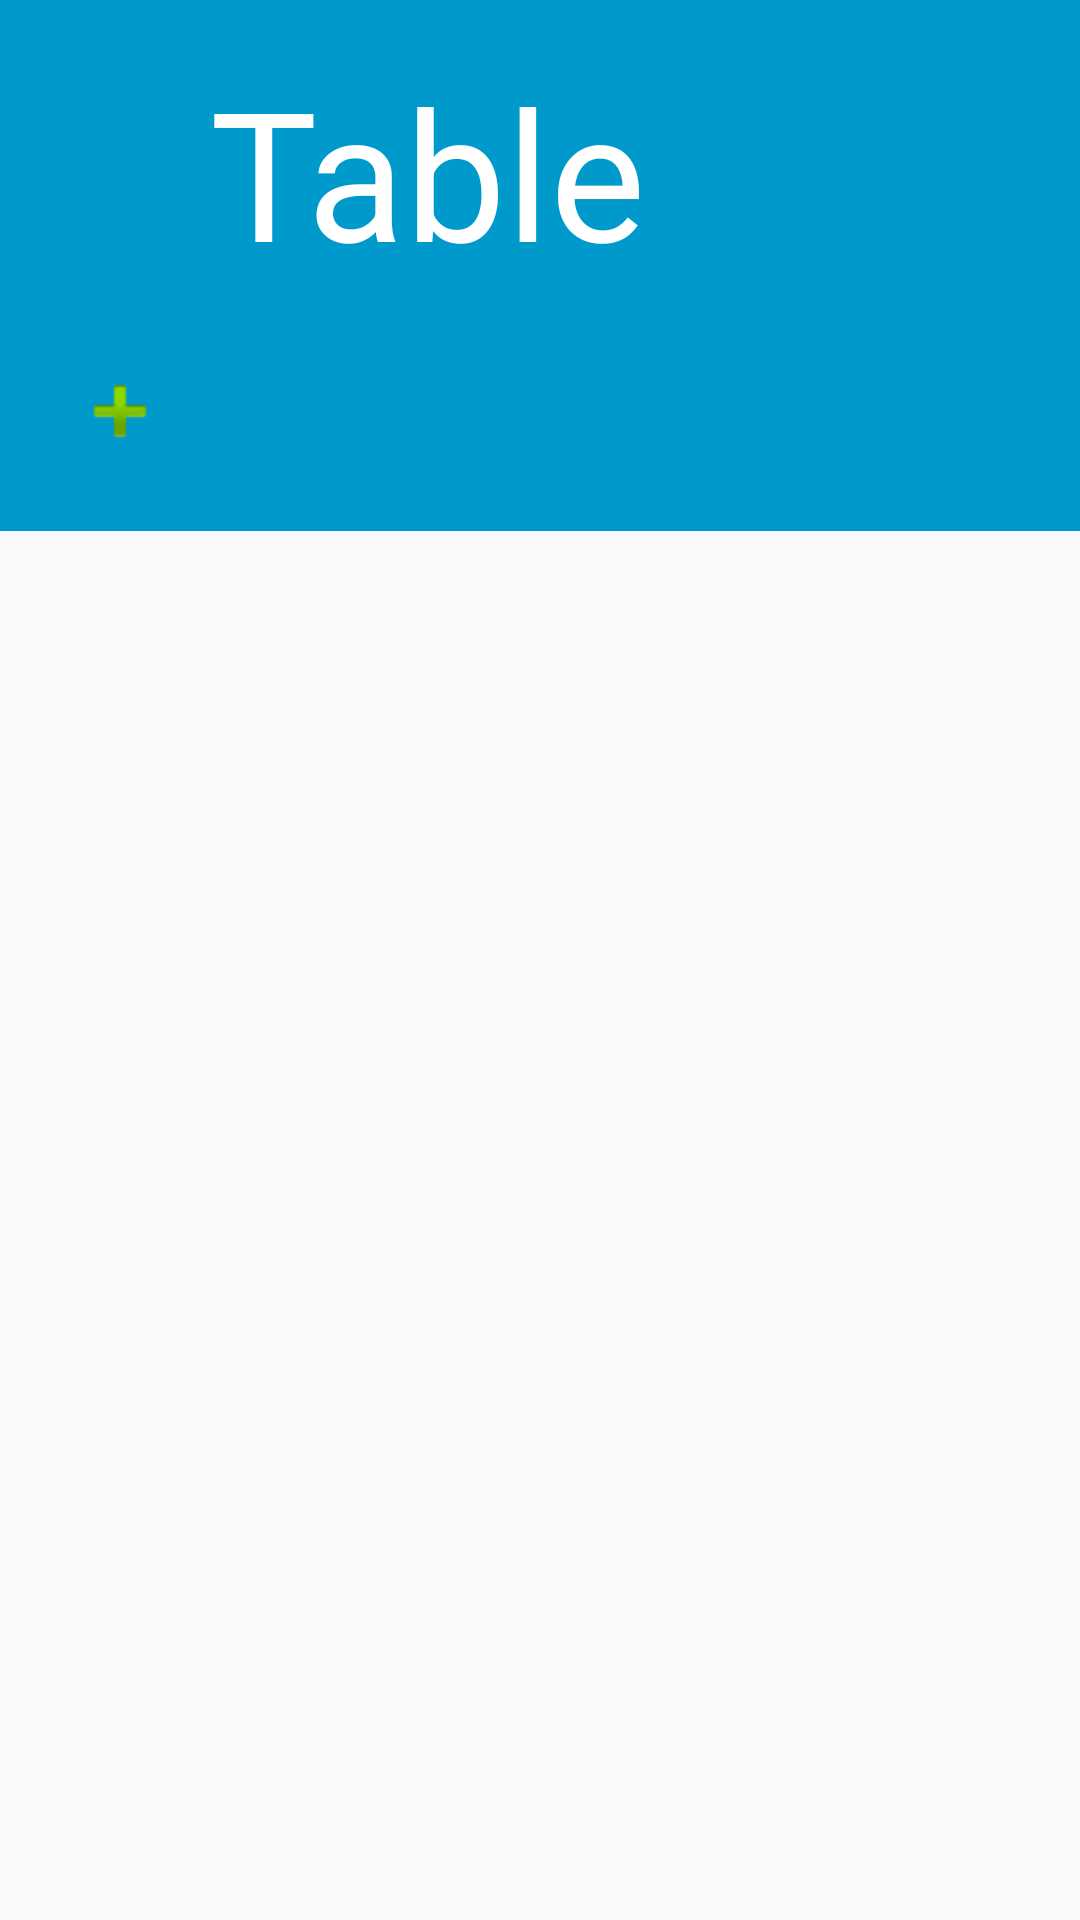

Icon click points for this 1080*1920 phone screenshot, format (x=x, y=y):
add: (x=120, y=411)
